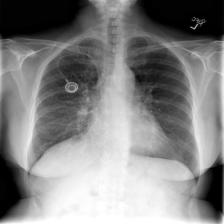normal: (22, 31, 204, 188)
